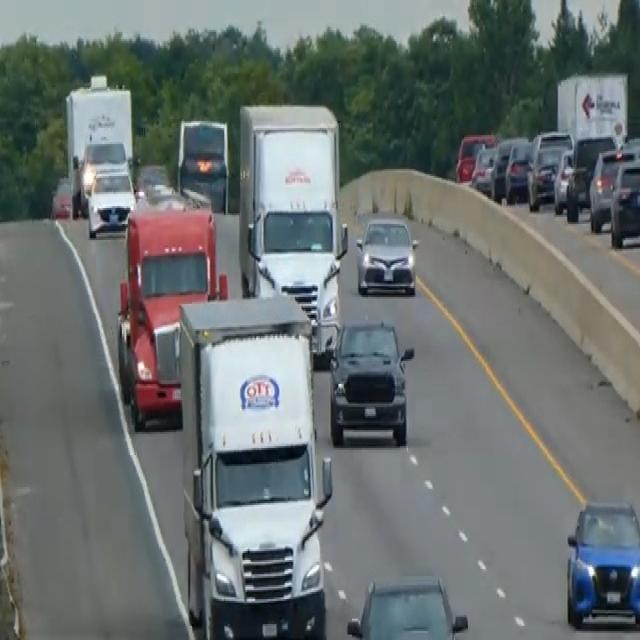car: (324, 316, 415, 446), (564, 496, 639, 629), (345, 571, 469, 638), (175, 114, 229, 213), (354, 213, 419, 295), (565, 132, 617, 220), (588, 144, 639, 231), (78, 134, 132, 214), (526, 128, 573, 210), (85, 166, 136, 238), (608, 155, 639, 247), (454, 128, 495, 183), (504, 137, 533, 203), (489, 135, 517, 201), (470, 142, 498, 196), (552, 146, 574, 213), (134, 160, 170, 197), (50, 172, 73, 220)
lorry: (176, 292, 333, 638), (115, 190, 226, 430)
